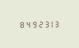eight: (17, 20, 22, 28)
four: (23, 20, 28, 28)
nine: (29, 20, 34, 28)
one: (47, 19, 52, 27)
three: (41, 19, 46, 27), (53, 19, 58, 27)
two: (35, 20, 40, 27)
